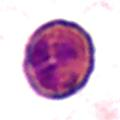neutrophil: (17, 17, 99, 98)
